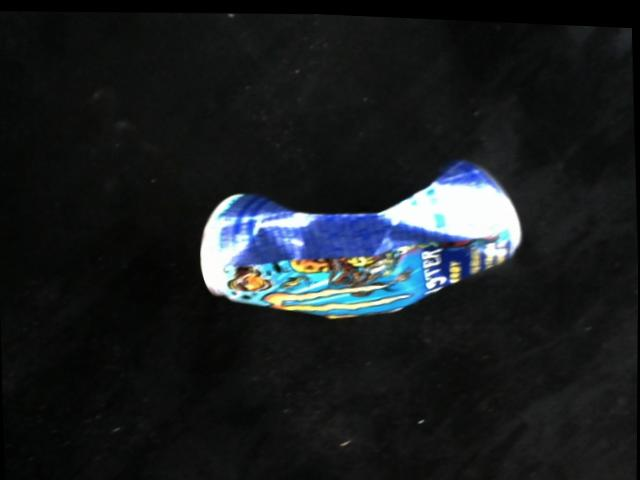can: (197, 156, 527, 324)
